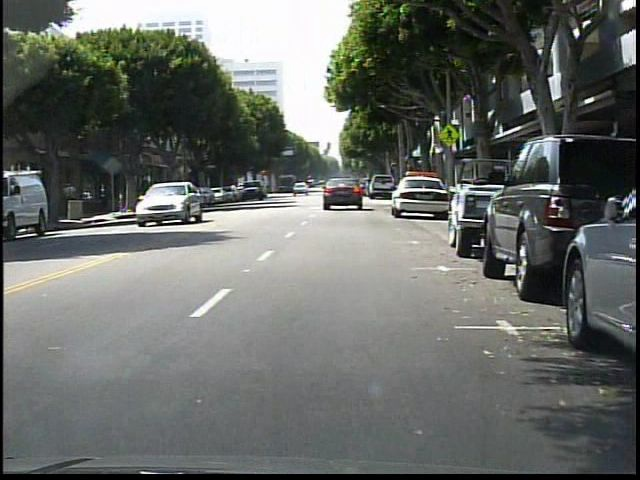person: (62, 179, 80, 221)
